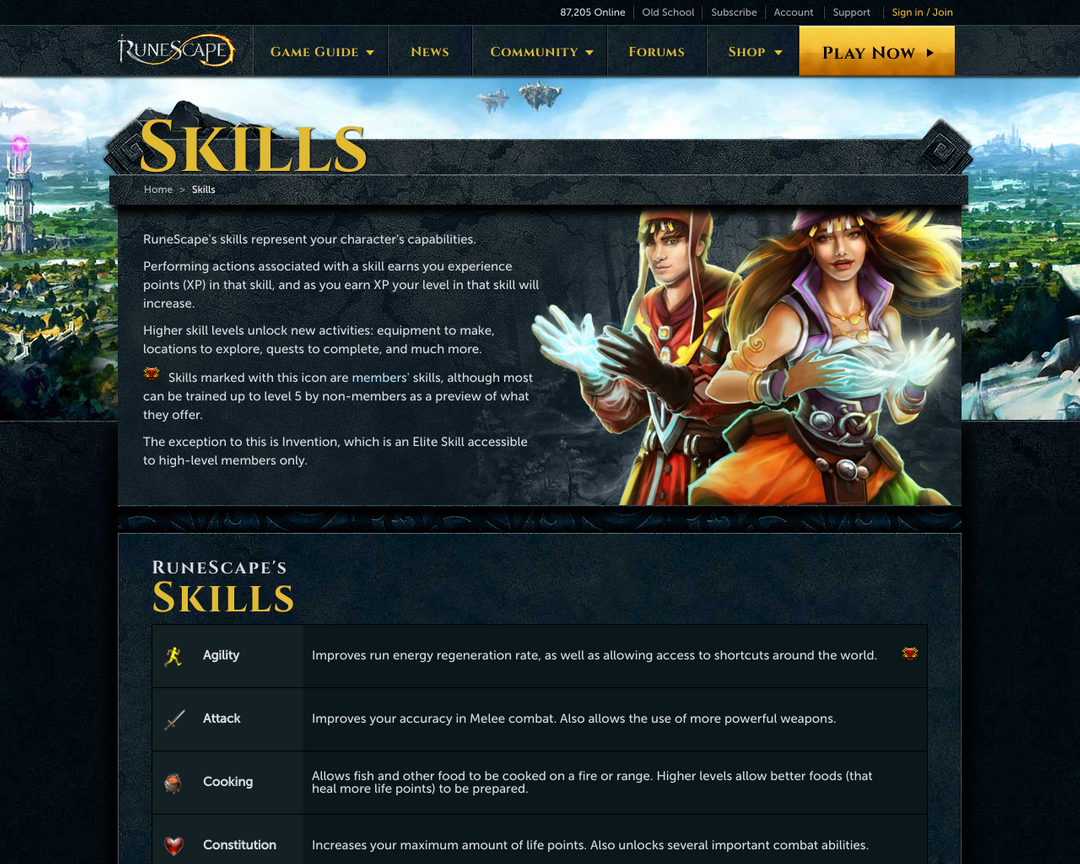Runescape: (106, 31, 238, 71)
